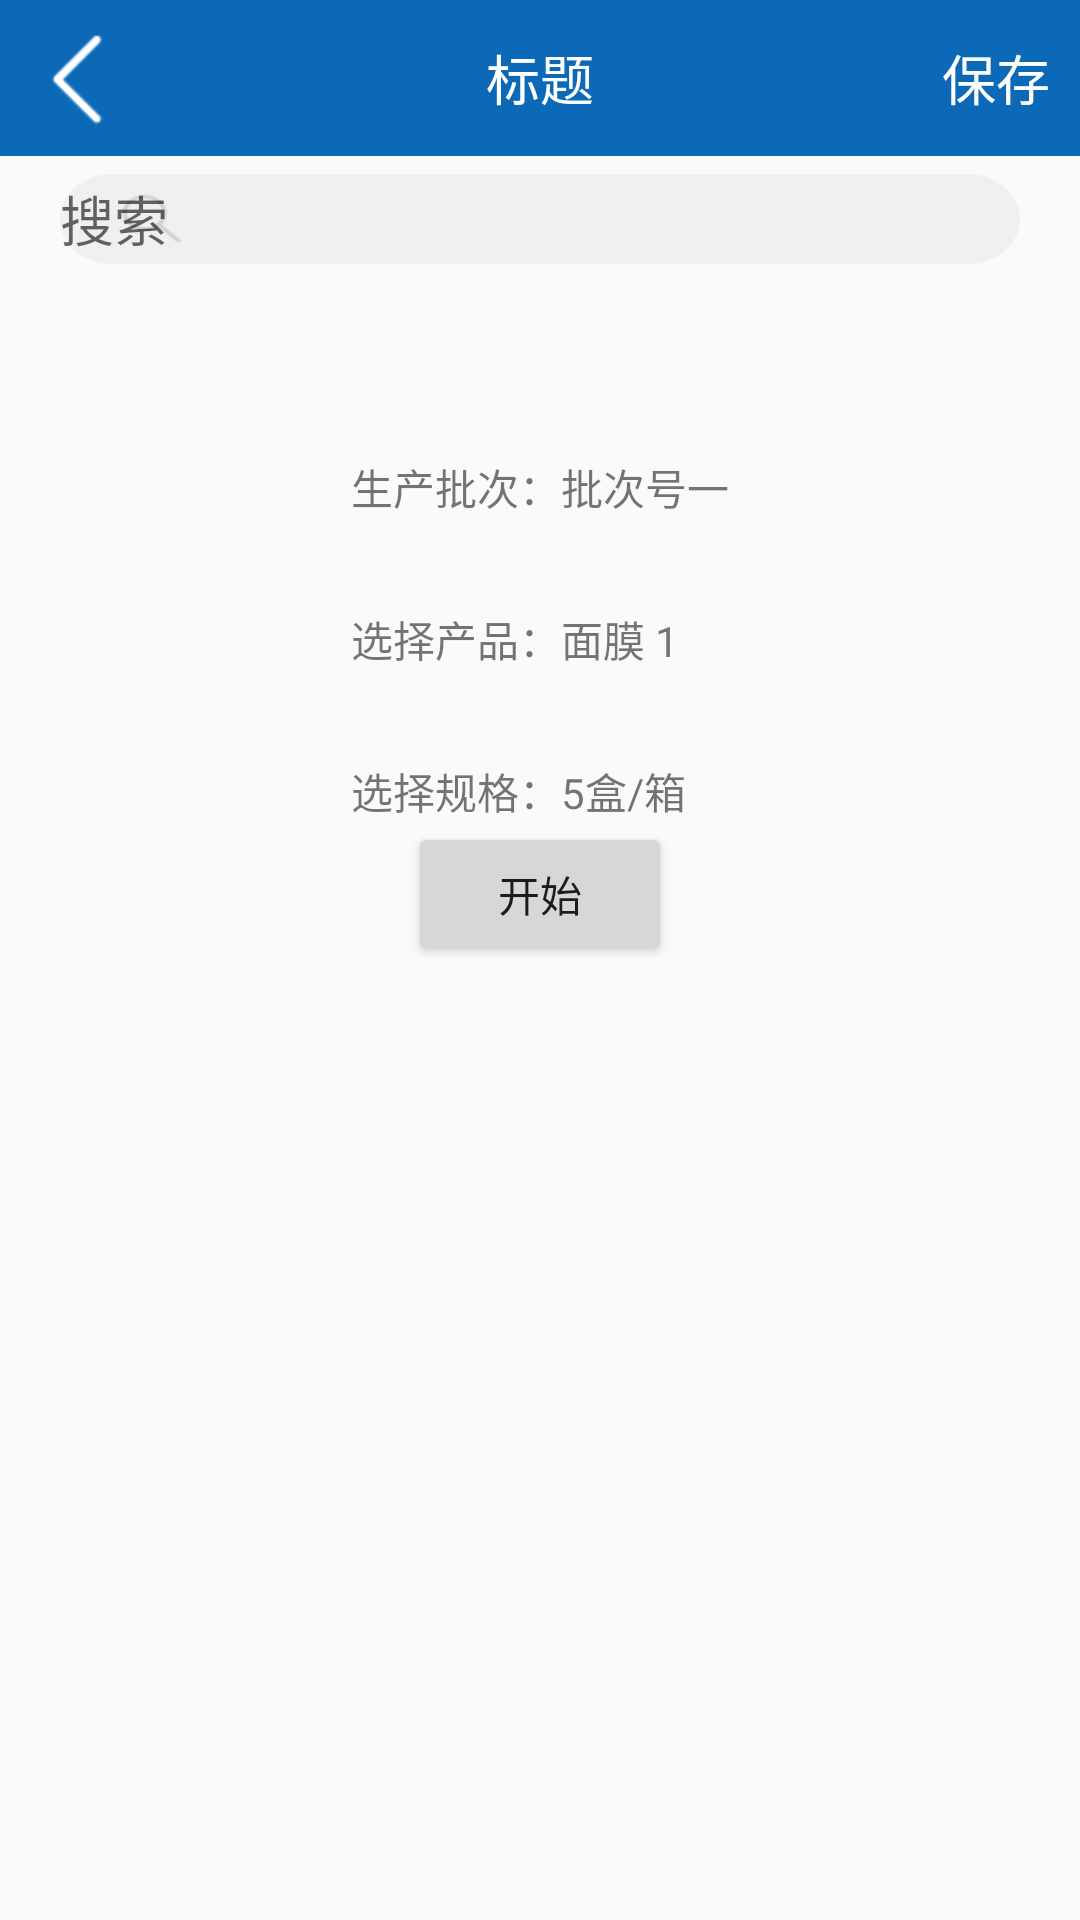

Locate icon controls on the screen. Image size 1080×1920, boxes as (x1, y1, x2, y2).
back: (52, 35, 102, 124)
